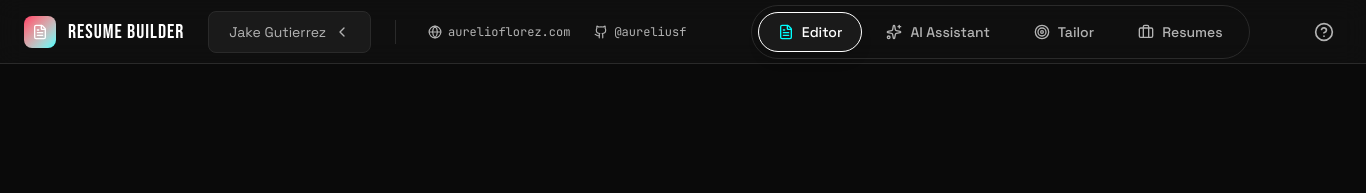
Test: Header › opens resume selector dropdown
What coordinates should you click on to do the following:
click the button with aria-label "select resume"
I would click on:
 (290, 32)
Its box is [208, 10, 371, 52].
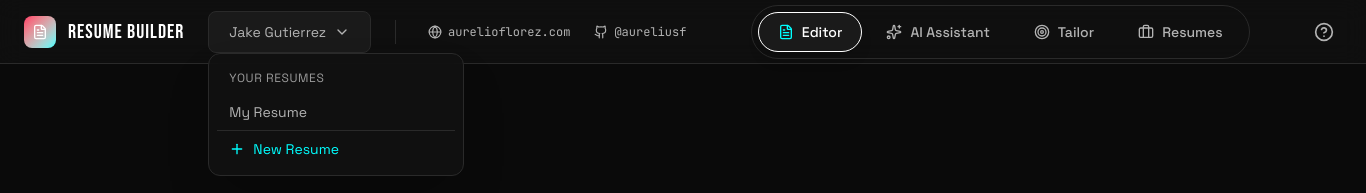
Check: the text "Your Resumes" is shown, box [229, 70, 324, 86]
